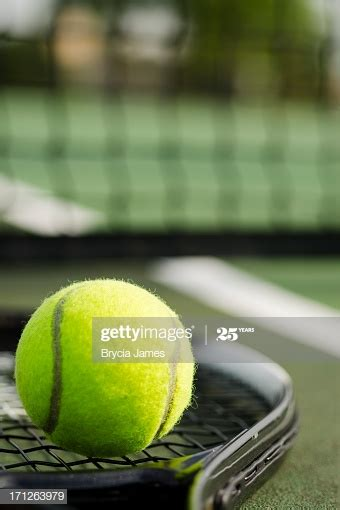tennis_ball: (16, 278, 195, 456)
